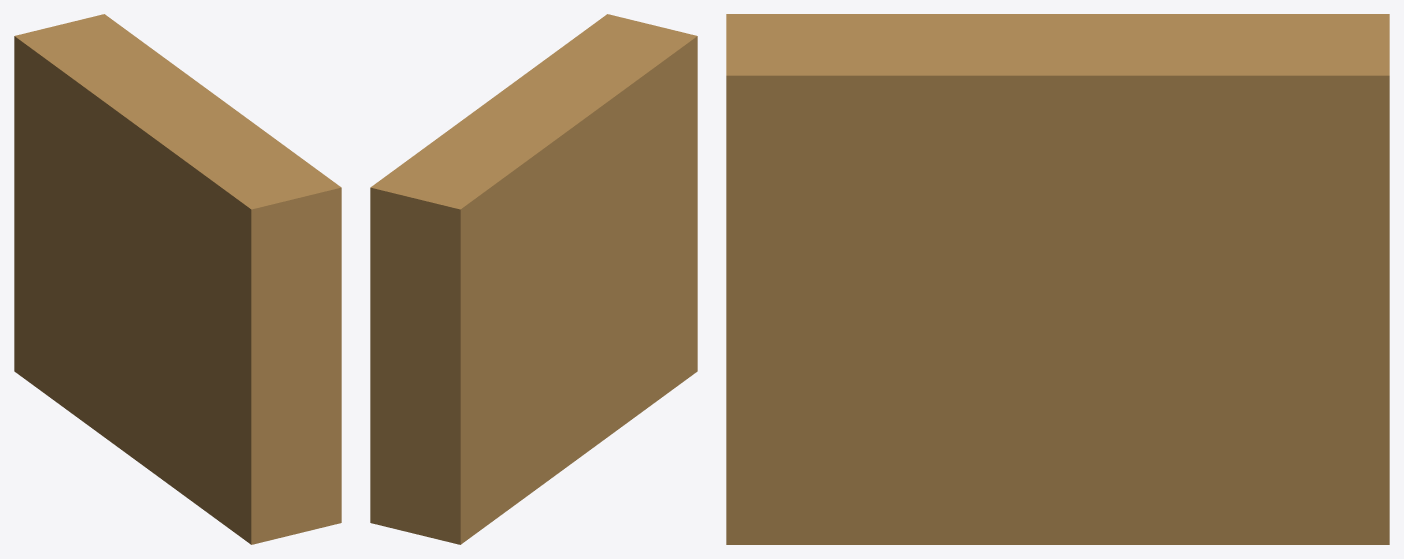
3 views of the same model, side by side, from view 1: azimuth 30°, elevation 25°; view 2: azimuth 150°, elevation 25°; view 3: azimuth 270°, elevation 25° (orthographic). The views are drawn at different scales.
Parts seen in each view (by area): view 1: FF-A-OPEN-05-00-HEAD; view 2: FF-A-OPEN-05-00-HEAD; view 3: FF-A-OPEN-05-00-HEAD.
Part boxes in pixels (x1,y1,x2,y2): FF-A-OPEN-05-00-HEAD: (14,14,341,544); FF-A-OPEN-05-00-HEAD: (370,14,697,544); FF-A-OPEN-05-00-HEAD: (726,14,1389,544).
Size of the model in its own units: 0.09 by 0.32 by 0.41.
